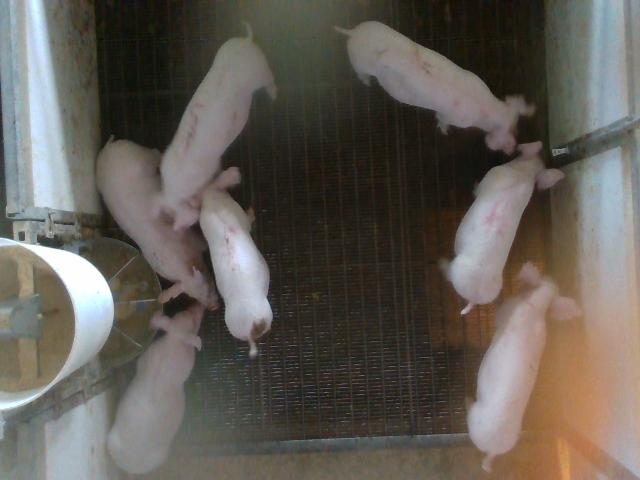pig-3: (154, 24, 276, 231)
pig-4: (441, 141, 564, 313)
pig-5: (200, 168, 272, 356)
